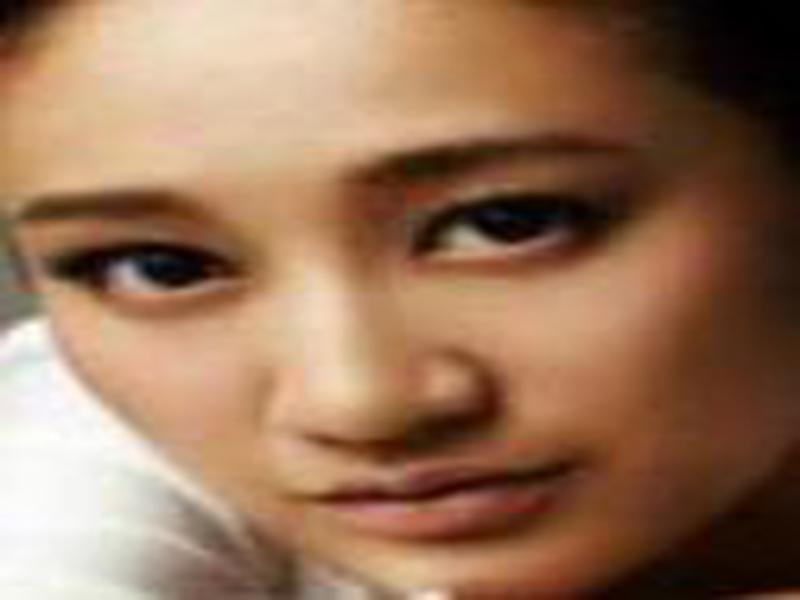without_mask: (2, 4, 785, 593)
